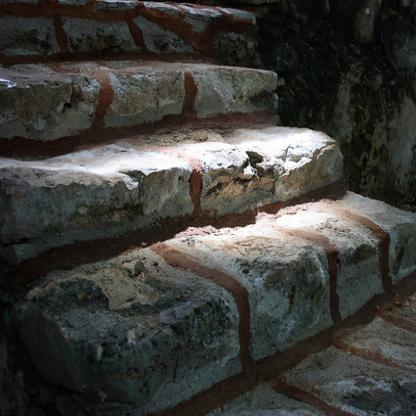stairs: (34, 39, 348, 400)
